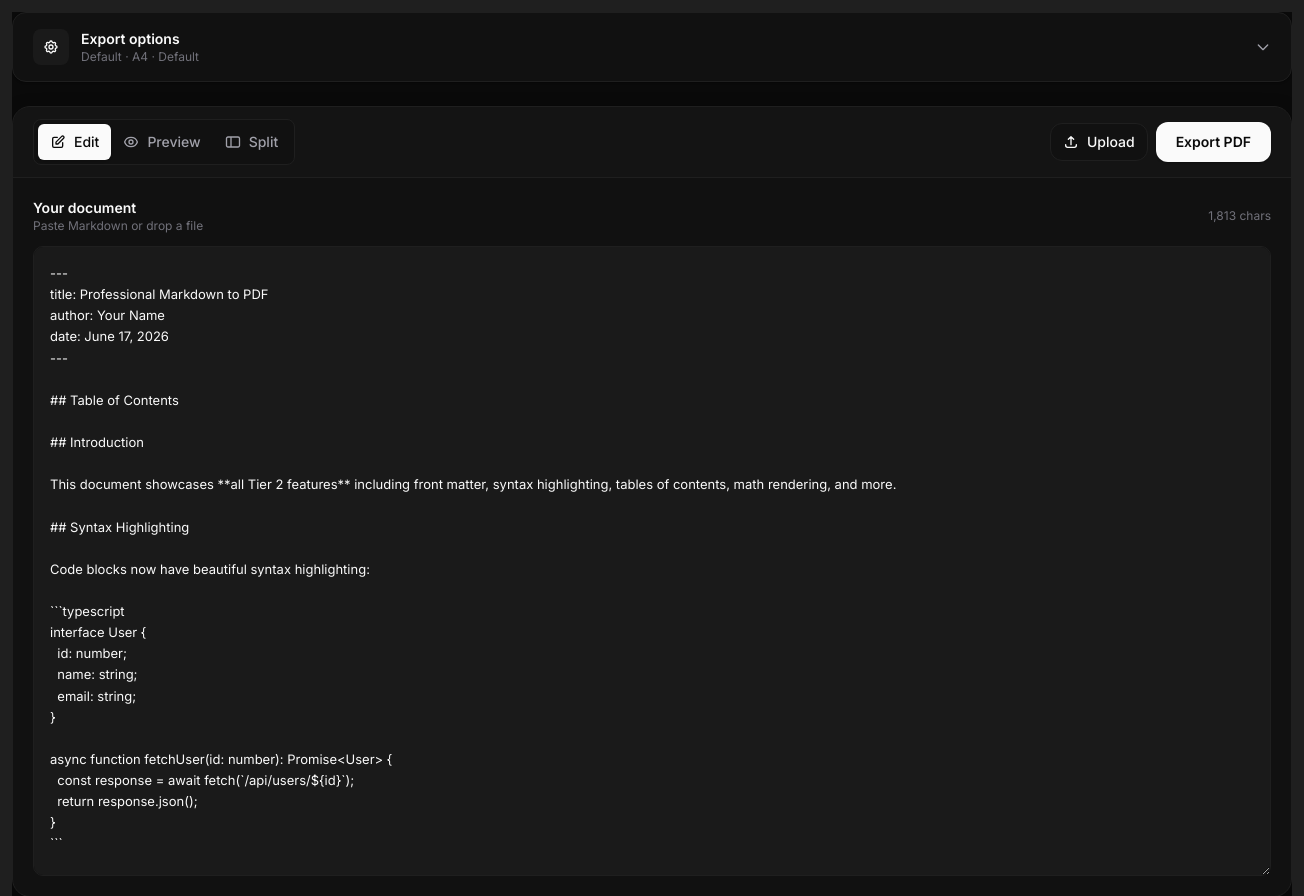
JobConsole › should render markdown preview component
The width and height of the screenshot is (1304, 896).
Click the tab "Preview" at point(162, 142), box 111,124 -> 213,160
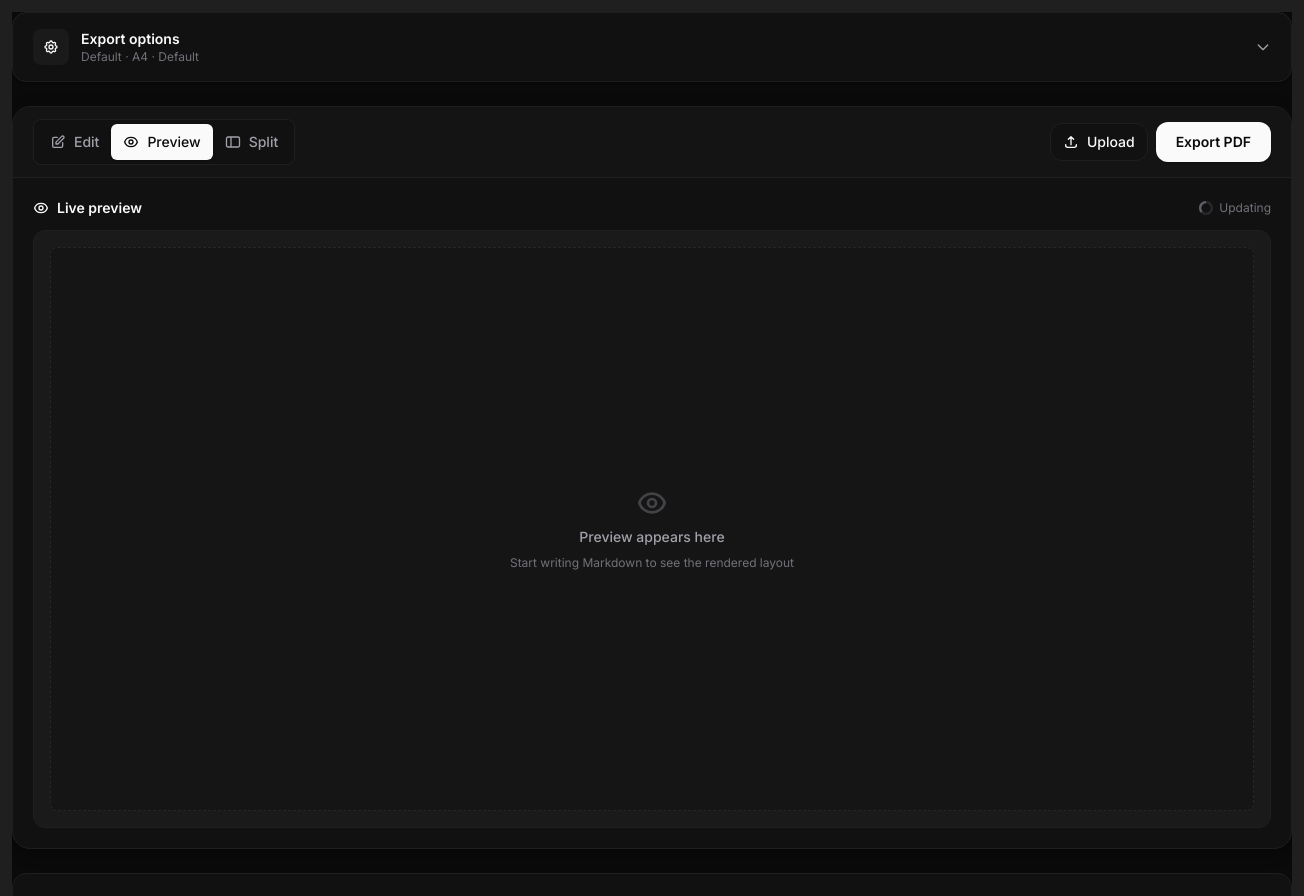
expect the text "Live preview" is shown: met, box 57,198 -> 142,218
